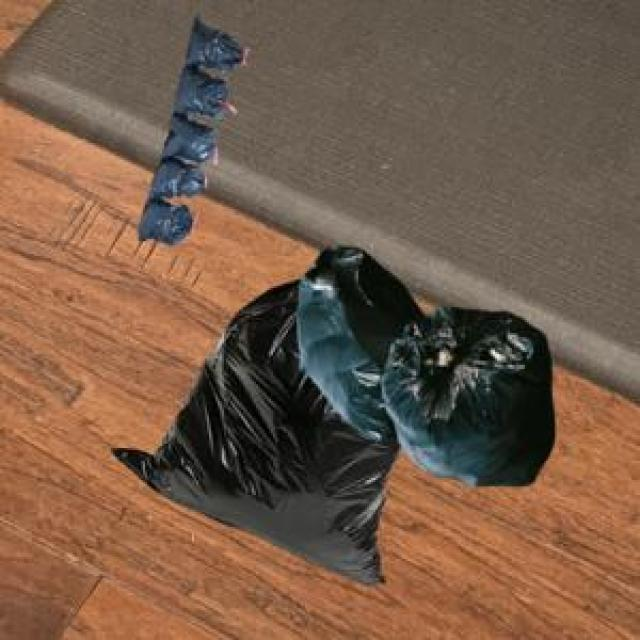waste: (114, 248, 554, 582), (138, 22, 241, 243)
